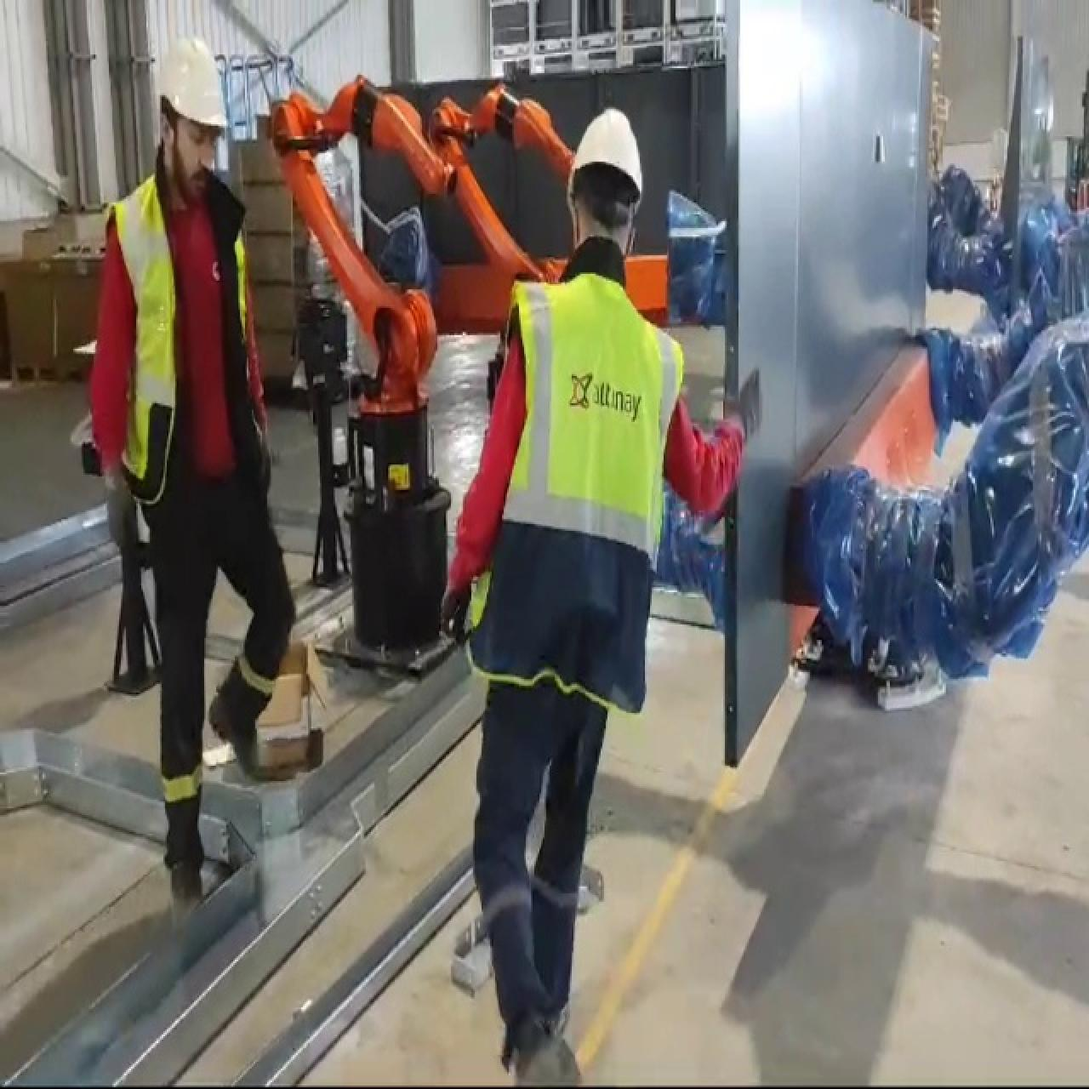Person: (430, 90, 684, 1089), (51, 16, 321, 915)
Safety_Vest: (469, 271, 666, 734), (100, 165, 291, 494)
